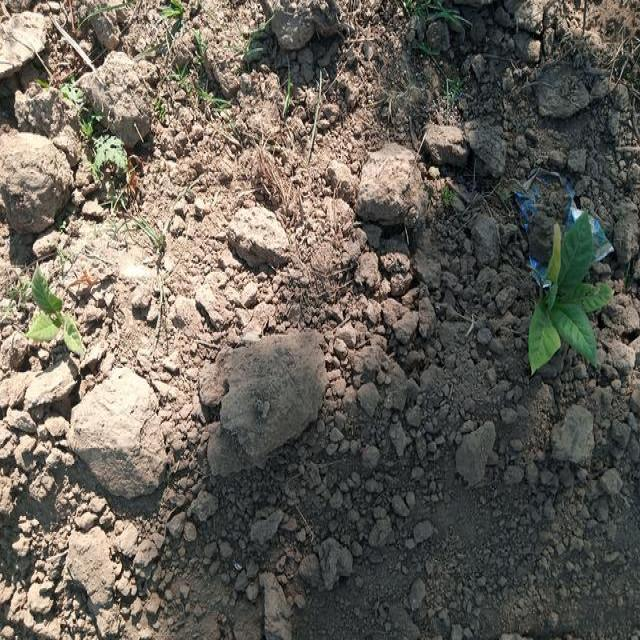crop: (526, 203, 608, 393), (18, 264, 89, 364)
